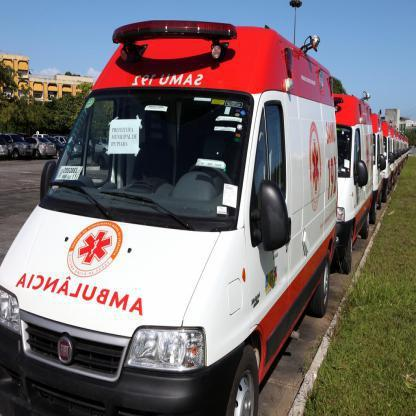Ambulance - v1 Ambulance last generate: (0, 0, 341, 415), (332, 89, 374, 274), (372, 108, 386, 223), (382, 117, 392, 195), (390, 123, 398, 185)
